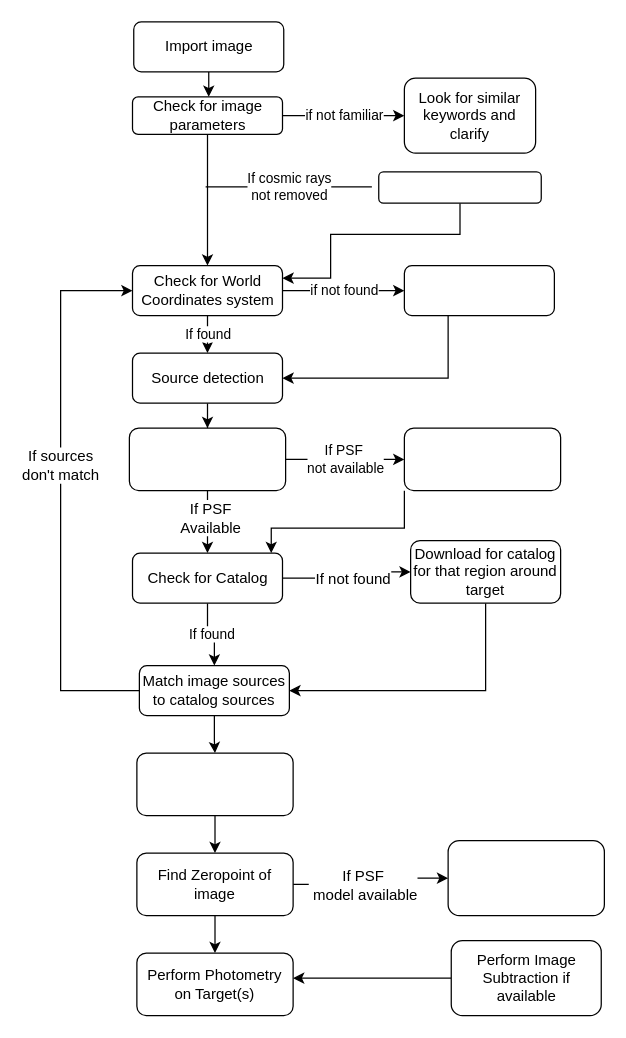
Image size: 626x1038. Some labels were removed from this diagram. The box of each missing label's shape, as (x1, y1, x2, y2) in pixels:
Attempt to build Point Spread Function Model: (128, 427, 286, 491)
Cosmic Ray removal: (378, 171, 541, 203)
Find Limiting Magnitude via artifical star inject in regions near target: (447, 839, 604, 916)
Perform Photometry on matched catalog sources: (136, 752, 293, 816)
Solve for WCS with astrometry.net: (403, 264, 554, 316)
Switch to Aperture Photometry: (403, 427, 561, 491)
